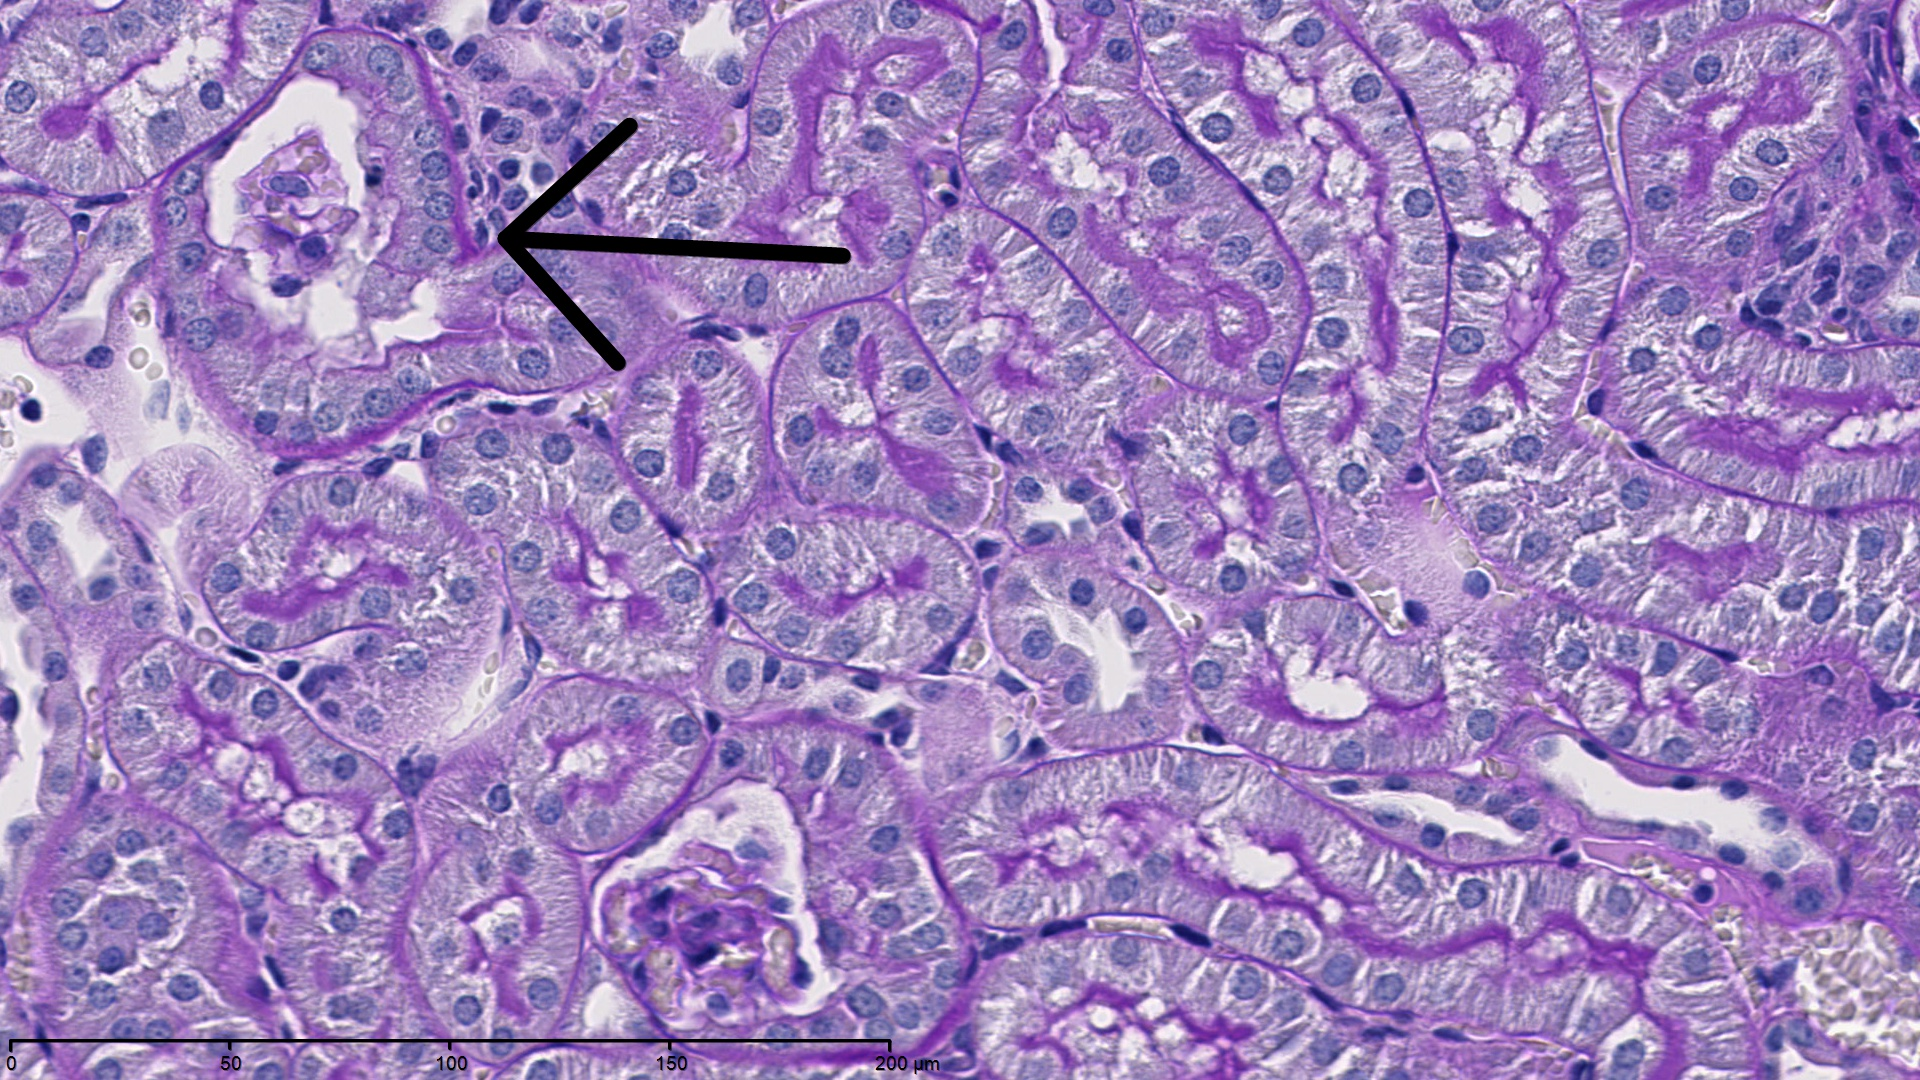Glomeruli: (169, 45, 497, 414), (589, 779, 820, 1029)
